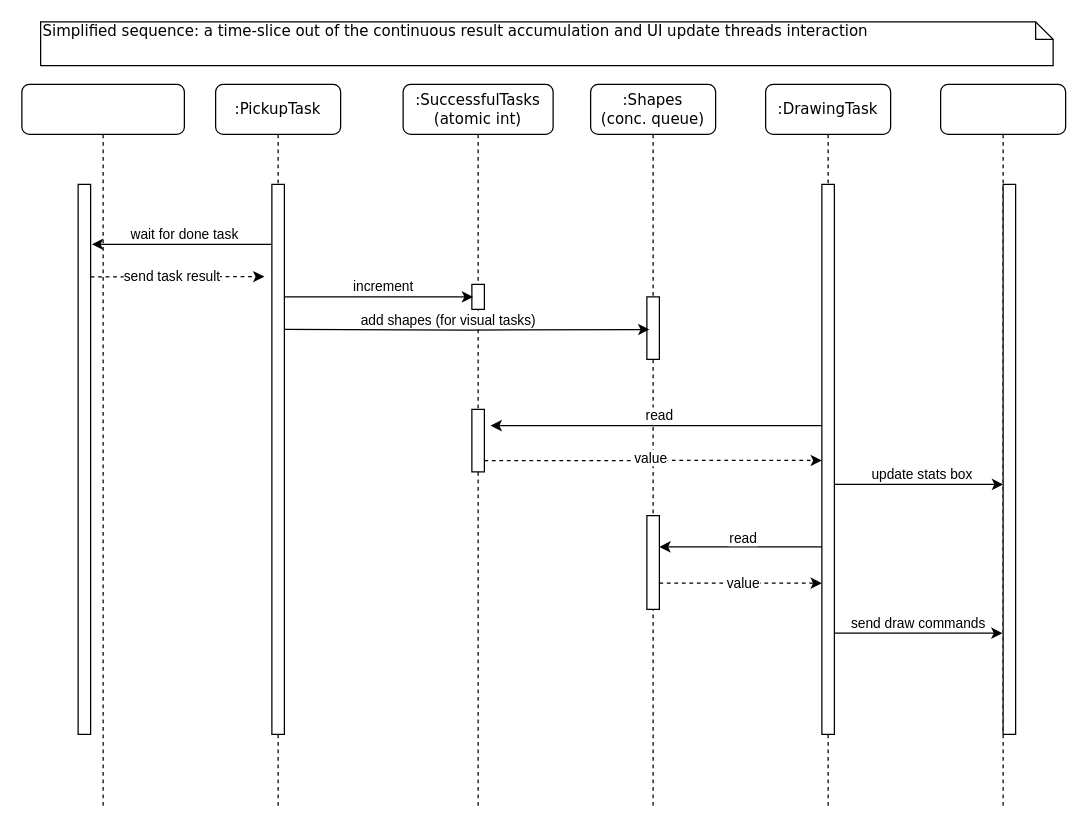
This 1088x831 diagram has some shape labels left out. Each missing label, with the centre of its shape:
":CompletionService" belongs at point (102, 446).
"UI Thread" belongs at point (1002, 446).
